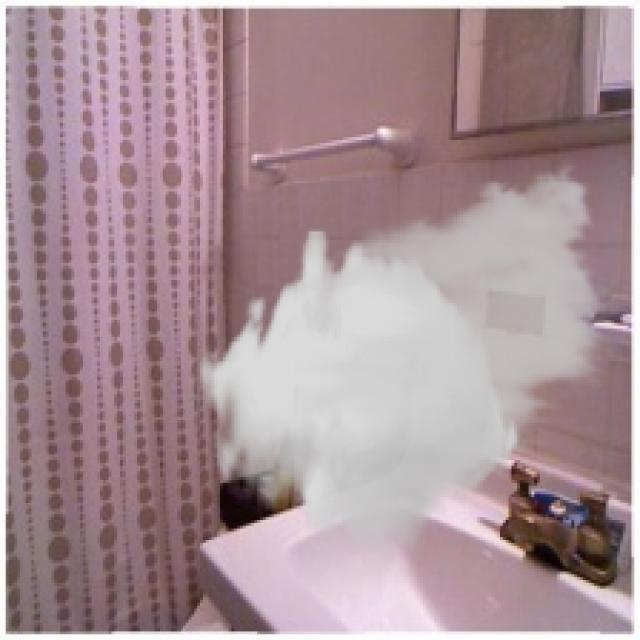smoke: (197, 155, 617, 554)
